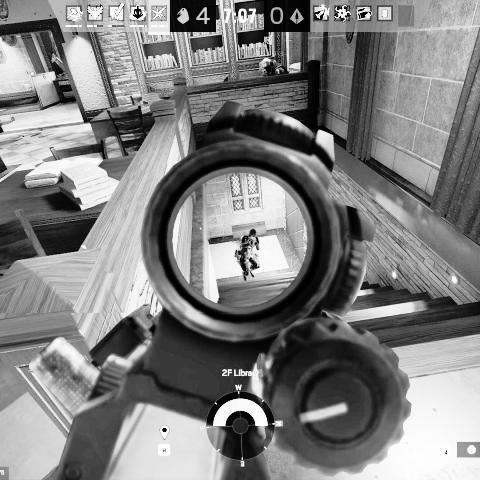Character: (233, 226, 262, 282), (256, 57, 290, 76)
Friend_label: (253, 34, 284, 56)
Head: (259, 58, 274, 74), (248, 228, 257, 240)
